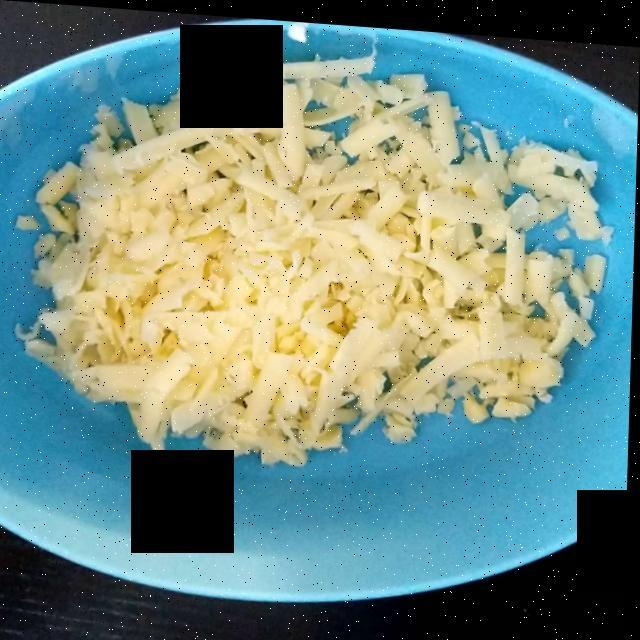cheddar: (36, 64, 601, 457)
